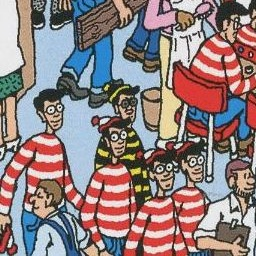waldo: (129, 149, 187, 250), (85, 114, 137, 211), (167, 140, 209, 209), (135, 151, 178, 199), (162, 141, 207, 185), (90, 116, 130, 163)
